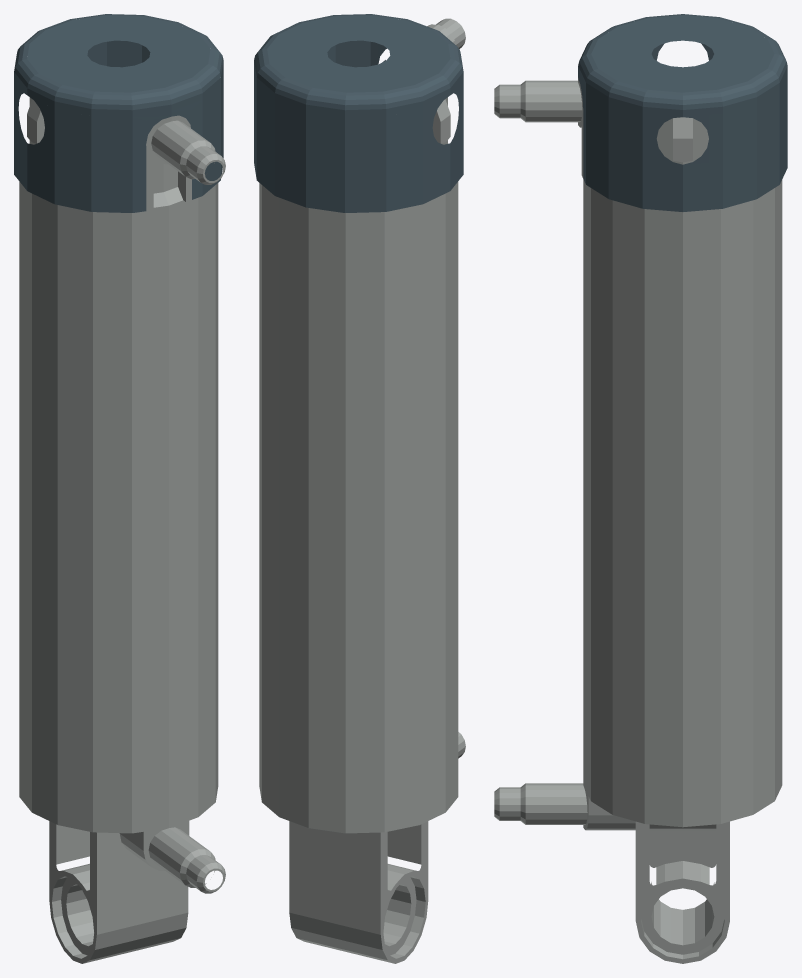
The picture shows the model from 3 angles, left to right: view 1: azimuth 30°, elevation 25°; view 2: azimuth 150°, elevation 25°; view 3: azimuth 270°, elevation 25°; orthographic projection.
Parts seen in each view (by area): view 1: world; view 2: world; view 3: world.
Boxes of the visible parts, left/top/right/bottom form: world: left=14, top=14, right=225, bottom=963; world: left=254, top=14, right=465, bottom=963; world: left=494, top=14, right=787, bottom=963.
Bounding box in the file's own units: 0.016 × 0.0748 × 0.0224.
